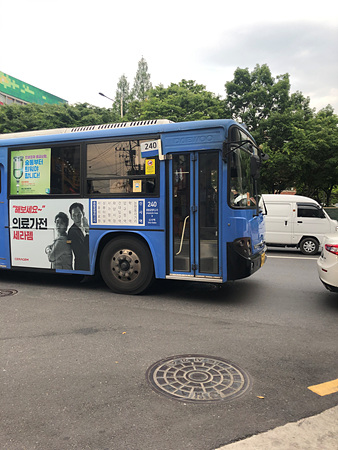entrance: (162, 147, 224, 282)
